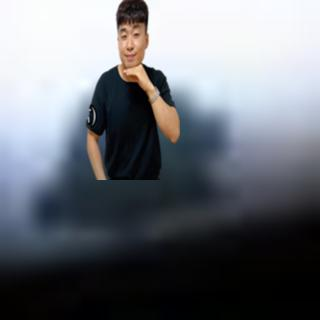Wait: (118, 63, 153, 91)
